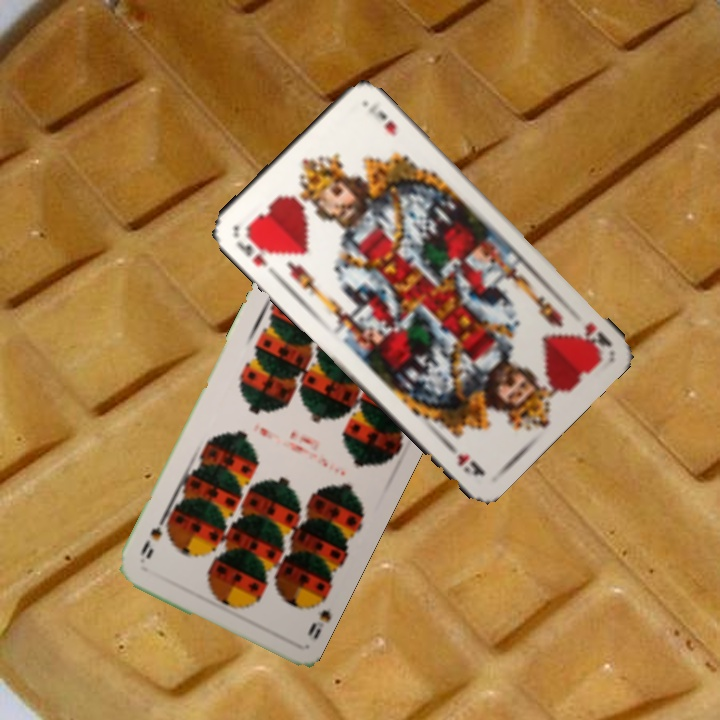HK: (232, 224, 275, 277), (580, 318, 615, 356)
S9: (303, 591, 331, 638)
